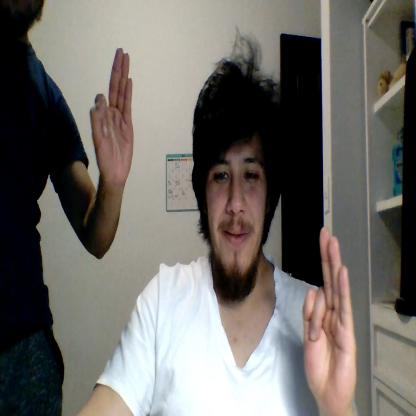F: (303, 226, 356, 405), (90, 48, 134, 184)
